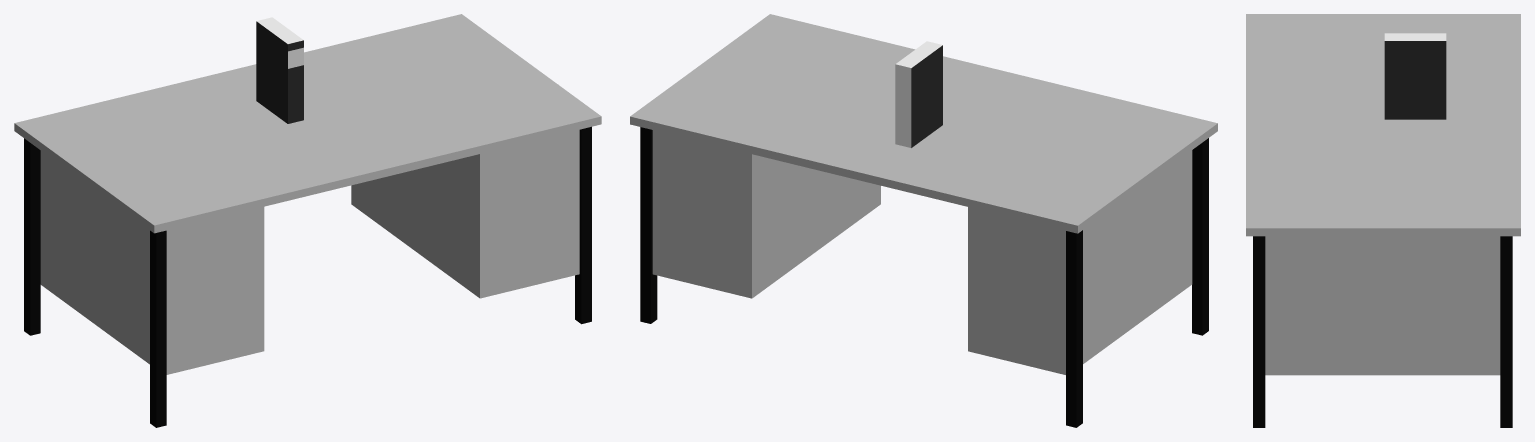
File: Props.dae
3 renders of one model, left to right at view 1: azimuth 30°, elevation 25°; view 2: azimuth 150°, elevation 25°; view 3: azimuth 270°, elevation 25°, orthographic.
Visible parts, largest first — view 1: Desk, Binder; view 2: Desk, Binder; view 3: Desk, Binder.
Boxes of the visible parts, bbox=[...] form: Desk: bbox=[14, 14, 601, 427]; Binder: bbox=[256, 17, 303, 123]; Desk: bbox=[630, 14, 1217, 427]; Binder: bbox=[895, 41, 942, 147]; Desk: bbox=[1246, 14, 1520, 427]; Binder: bbox=[1384, 33, 1446, 119].
Bounding box in the file's own units: 0.96 × 0.587 × 0.52.
Materials: 2 (2 with a texture image).
